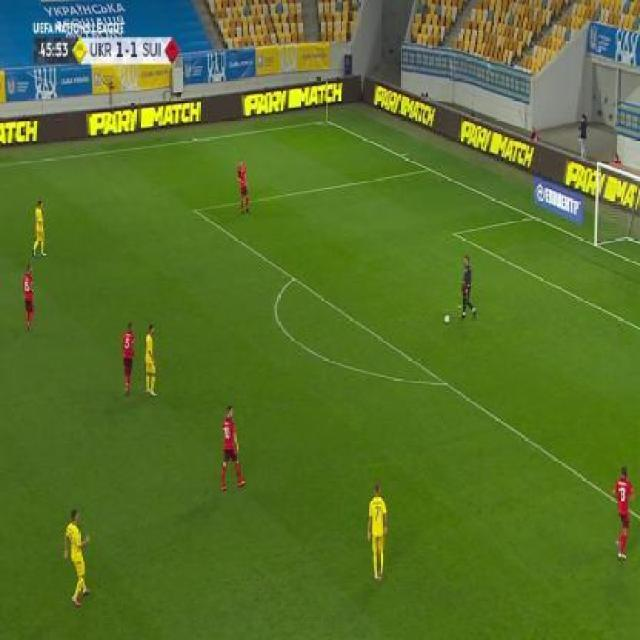ball: (444, 312, 450, 325)
player: (62, 507, 91, 606), (611, 465, 636, 562), (366, 480, 388, 585), (219, 405, 244, 494), (119, 321, 138, 398), (458, 252, 477, 320), (142, 323, 158, 399), (20, 262, 36, 333), (31, 198, 48, 260), (235, 156, 251, 216)
